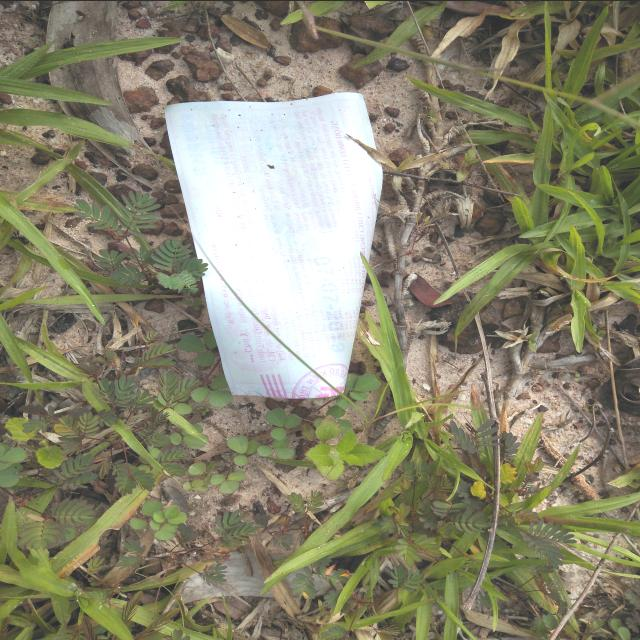Normal paper: (163, 92, 385, 396)
